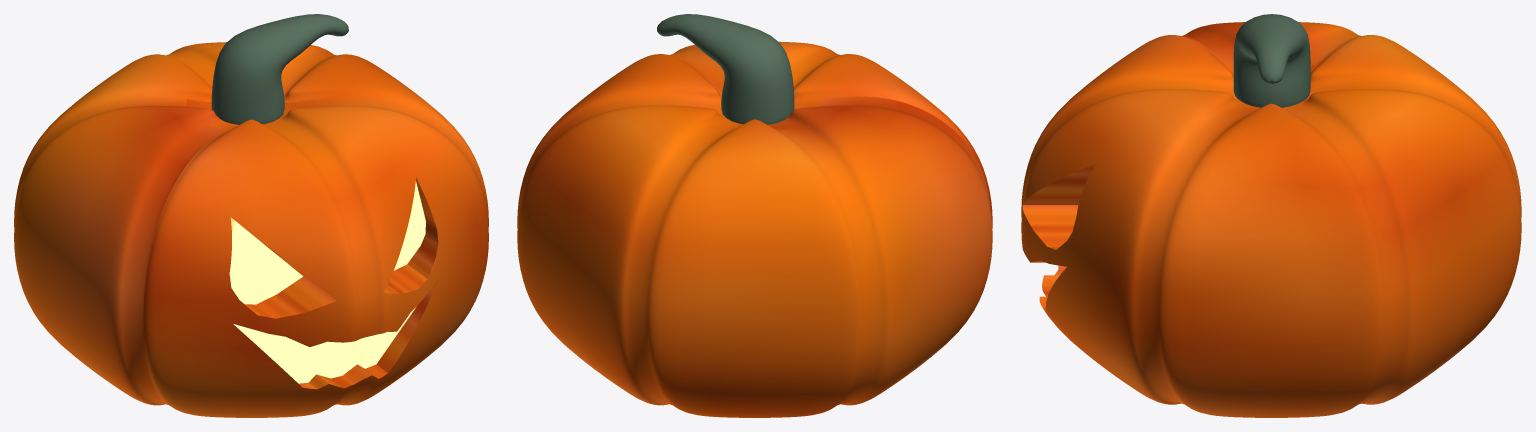
The model's file is jack-o-lantern.glb.
The picture shows the model from 3 angles, left to right: view 1: azimuth 30°, elevation 25°; view 2: azimuth 150°, elevation 25°; view 3: azimuth 270°, elevation 25°; orthographic projection. The views are drawn at different scales.
Visible parts, largest first — view 1: Sphere, Sphere.001, Plane.001, Plane; view 2: Sphere, Sphere.001; view 3: Sphere, Sphere.001.
Part boxes in pixels (x1,y1,x2,y2): Sphere: [14, 42, 488, 417]; Sphere.001: [211, 14, 348, 124]; Plane.001: [229, 181, 425, 304]; Plane: [233, 307, 415, 383]; Sphere: [517, 41, 992, 417]; Sphere.001: [657, 14, 794, 124]; Sphere: [1021, 22, 1521, 417]; Sphere.001: [1233, 14, 1310, 107].
Bounding box in the file's own units: 1.68 × 1.41 × 1.81.
Materials: 3 (2 with a texture image).
